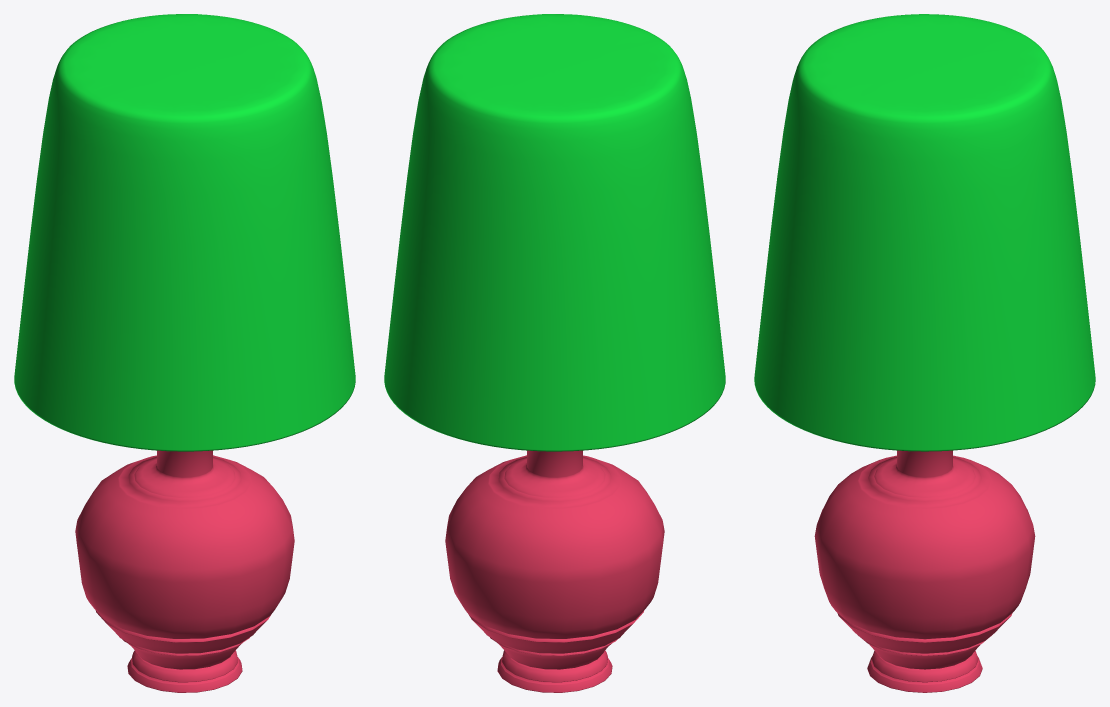
Rendered from abajur.fbx.
3 renders of one model, left to right at view 1: azimuth 30°, elevation 25°; view 2: azimuth 150°, elevation 25°; view 3: azimuth 270°, elevation 25°, orthographic.
Visible parts, largest first — view 1: Circle.009; view 2: Circle.009; view 3: Circle.009.
Boxes of the visible parts, x1,y1,x2,y2 form: Circle.009: (14, 14, 355, 692); Circle.009: (384, 14, 725, 692); Circle.009: (754, 14, 1095, 692).
Size of the model in its own units: 94.32 by 184 by 94.32.
